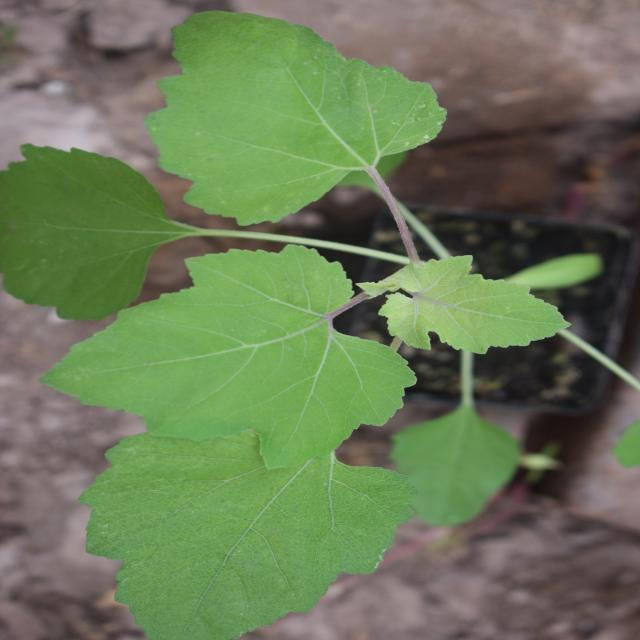cocklebur: (23, 91, 632, 592)
